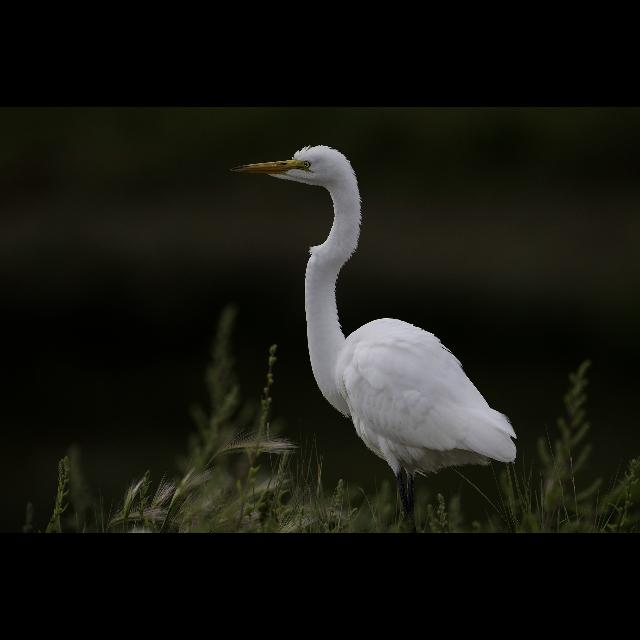egret: (226, 134, 524, 511)
